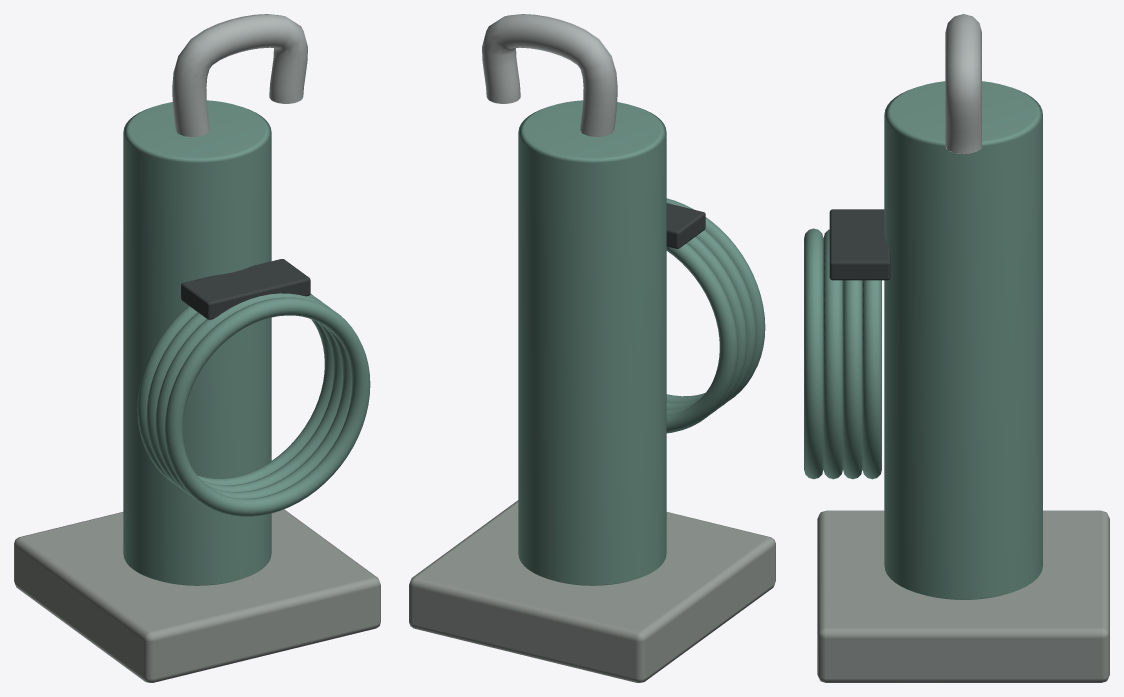
Rendered from canal-boats-and-lock-operations-canal-boats-and-lock-o-5096505f__31653.glb.
3 renders of one model, left to right at view 1: azimuth 30°, elevation 25°; view 2: azimuth 150°, elevation 25°; view 3: azimuth 270°, elevation 25°, orthographic. The views are drawn at different scales.
Visible parts, largest first — view 1: canal-boats-and-lock-operations-fresh-water-service-point; view 2: canal-boats-and-lock-operations-fresh-water-service-point; view 3: canal-boats-and-lock-operations-fresh-water-service-point.
Part boxes in pixels (<box>): canal-boats-and-lock-operations-fresh-water-service-point: <box>14,14,380,682</box>; canal-boats-and-lock-operations-fresh-water-service-point: <box>409,14,775,682</box>; canal-boats-and-lock-operations-fresh-water-service-point: <box>804,14,1109,682</box>.
Bounding box in the file's own units: 0.48 × 1.12 × 0.502.
